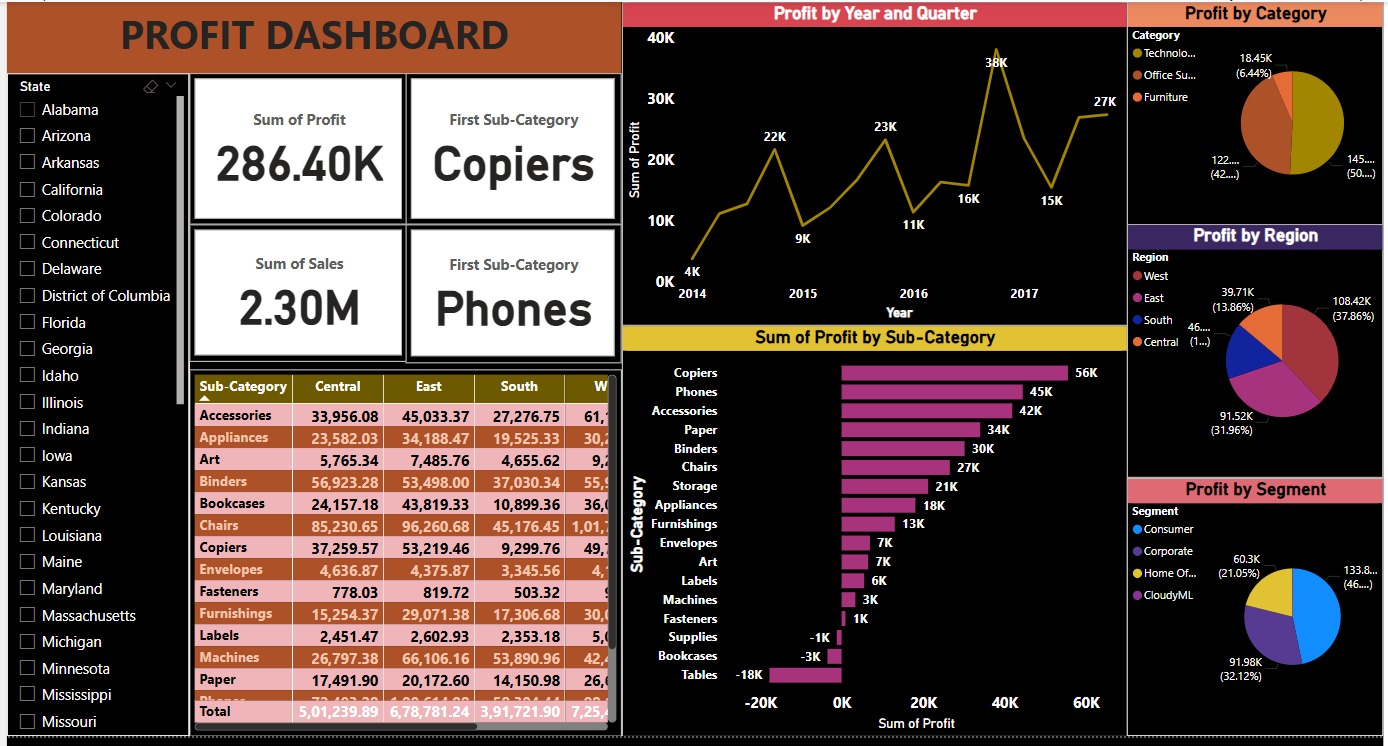

Layout of this report page (visuals, bound fields, positions):
{"tool":"powerbi","page":{"name":"PROFIT","canvas":[1500,800],"ordinal":1},"visuals":[{"type":"pieChart","title":" Profit by Category","fields":{"Y":["Sum(Orders.Profit)"],"Category":["Orders.Category"]},"box":[1220.9,0,279.4,242.9],"z":0},{"type":"pieChart","title":" Profit by Region","fields":{"Y":["Sum(Orders.Profit)"],"Category":["Orders.Region"]},"box":[1220.9,242.9,279.4,276.2],"z":1000},{"type":"barChart","fields":{"Y":["Sum(Orders.Profit)"],"Category":["Orders.Sub-Category"]},"box":[670,352.5,550.9,447.7],"z":2000},{"type":"pieChart","title":"Profit by Segment","fields":{"Y":["Sum(Orders.Profit)"],"Category":["Orders.Segment"]},"box":[1220.9,519.2,279.4,281],"z":3000},{"type":"lineChart","title":" Profit by Year and Quarter","fields":{"Y":["Sum(Orders.Profit)"],"Category":["Orders.Order Date.Variation.Date Hierarchy.Year","Orders.Order Date.Variation.Date Hierarchy.Quarter","Orders.Order Date.Variation.Date Hierarchy.Month","Orders.Order Date.Variation.Date Hierarchy.Day"]},"box":[670,0,550.9,352.5],"z":4000},{"type":"pivotTable","fields":{"Rows":["Orders.Sub-Category"],"Columns":["Orders.Region"],"Values":["Sum(Orders.Sales)"]},"box":[198.5,400.1,471.5,400.1],"z":5000},{"type":"slicer","fields":{"Values":["Orders.State"]},"box":[0,77.8,198.5,722.4],"z":6000},{"type":"cardVisual","fields":{"Data":["Sum(Orders.Profit)"]},"box":[198.5,77.8,238.1,165.1],"z":7000},{"type":"cardVisual","fields":{"Data":["Sum(Orders.Sales)"]},"box":[198.5,242.9,238.1,149.2],"z":8000},{"type":"cardVisual","fields":{"Data":["Min(Orders.Sub-Category)"]},"box":[435,77.8,235,165.1],"z":9000},{"type":"cardVisual","fields":{"Data":["Min(Orders.Sub-Category)"]},"box":[435,242.9,235,150.8],"z":10000},{"type":"textbox","box":[0,0,670,77.8],"z":11000}]}

Visuals, with their boxes in screenshot pixels (x1, y1, x2, y2), scaled from the page's 1500x800 canvas onto the 1388x746 screenshot:
" Profit by Category" pieChart: <bbox>1130, 0, 1387, 227</bbox>
" Profit by Region" pieChart: <bbox>1130, 227, 1387, 484</bbox>
barChart - Sum(Orders.Profit) x Orders.Sub-Category: <bbox>620, 329, 1130, 745</bbox>
"Profit by Segment" pieChart: <bbox>1130, 484, 1387, 745</bbox>
" Profit by Year and Quarter" lineChart: <bbox>620, 0, 1130, 329</bbox>
pivotTable - Orders.Sub-Category x Orders.Region: <bbox>184, 373, 620, 745</bbox>
slicer - Orders.State: <bbox>0, 73, 184, 745</bbox>
cardVisual - Sum(Orders.Profit): <bbox>184, 73, 404, 227</bbox>
cardVisual - Sum(Orders.Sales): <bbox>184, 227, 404, 366</bbox>
cardVisual - Min(Orders.Sub-Category): <bbox>403, 73, 620, 227</bbox>
cardVisual - Min(Orders.Sub-Category): <bbox>403, 227, 620, 367</bbox>
textbox: <bbox>0, 0, 620, 73</bbox>
